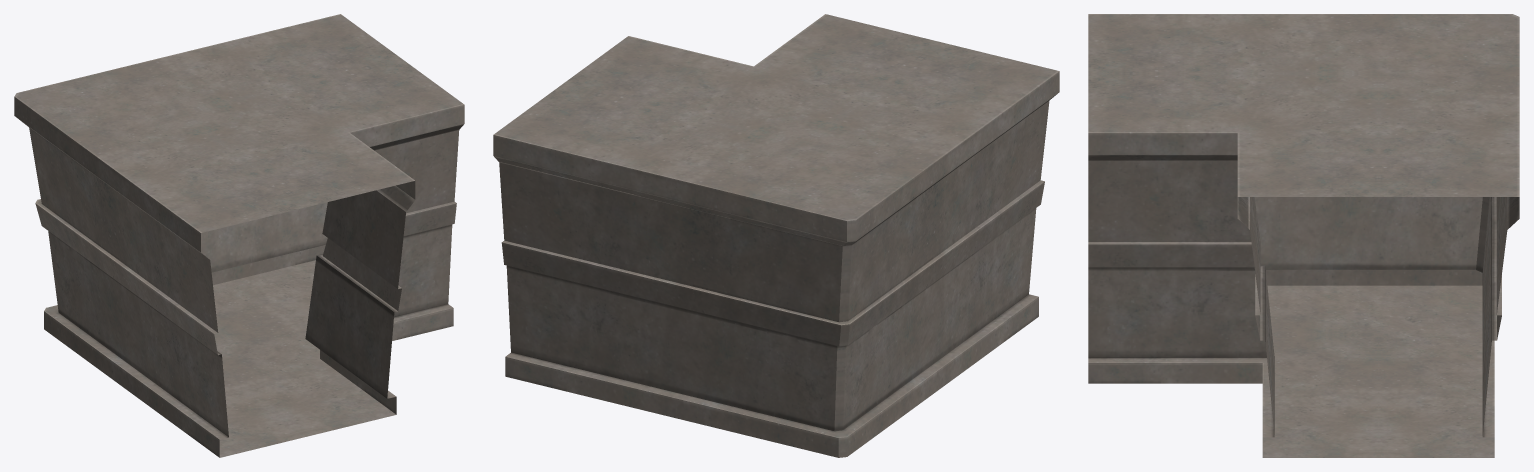
The model's file is sb_obj_outdoor009_AncientTemple_WallTopParts01F.fbx.
3 renders of one model, left to right at view 1: azimuth 30°, elevation 25°; view 2: azimuth 150°, elevation 25°; view 3: azimuth 270°, elevation 25°, orthographic. The views are drawn at different scales.
Visible parts, largest first — view 1: sb_obj_outdoor009_AncientTemple_WallTopParts01F; view 2: sb_obj_outdoor009_AncientTemple_WallTopParts01F; view 3: sb_obj_outdoor009_AncientTemple_WallTopParts01F.
Boxes of the visible parts, x1,y1,x2,y2 form: sb_obj_outdoor009_AncientTemple_WallTopParts01F: [14, 14, 464, 457]; sb_obj_outdoor009_AncientTemple_WallTopParts01F: [493, 14, 1059, 457]; sb_obj_outdoor009_AncientTemple_WallTopParts01F: [1088, 14, 1519, 457].
Size of the model in its own units: 2.98 by 1.98 by 2.97.
